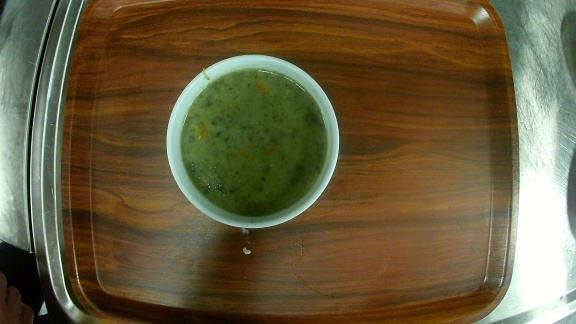brokolicorba: (165, 53, 341, 230)
